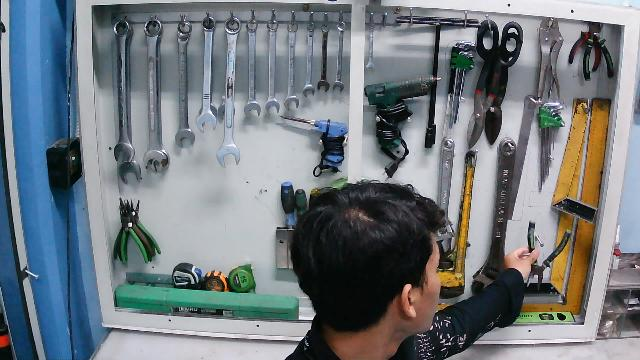tang_kombinasi: (523, 219, 572, 291)
